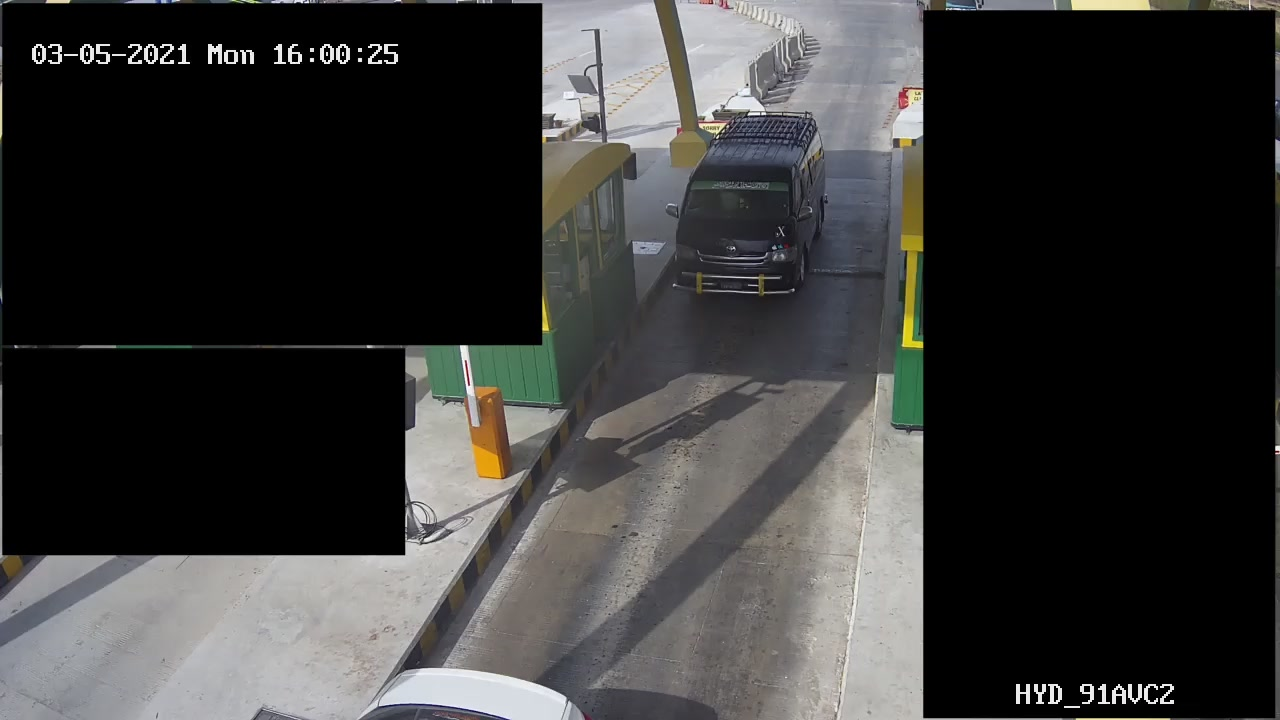F2: (670, 106, 837, 312)
